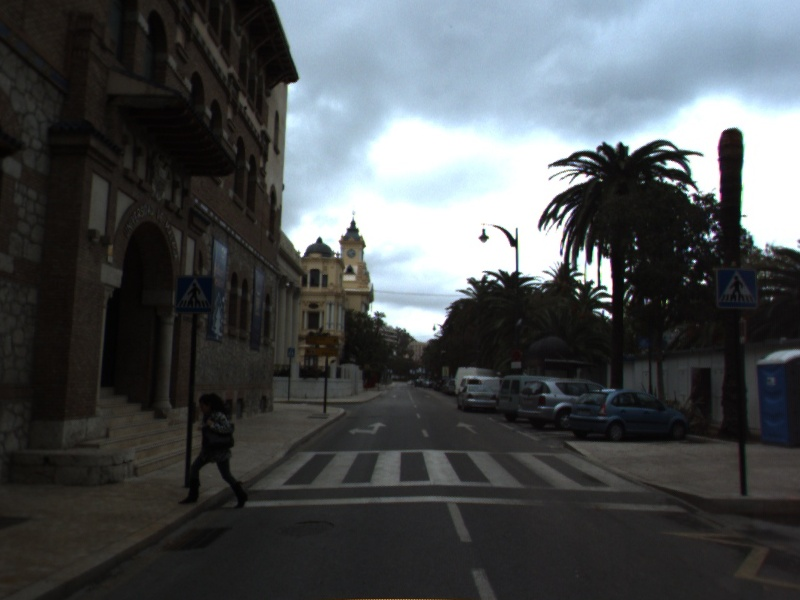STRAIGHT: (454, 419, 481, 436)
STRAIGHT_LEFT: (346, 420, 390, 437)
